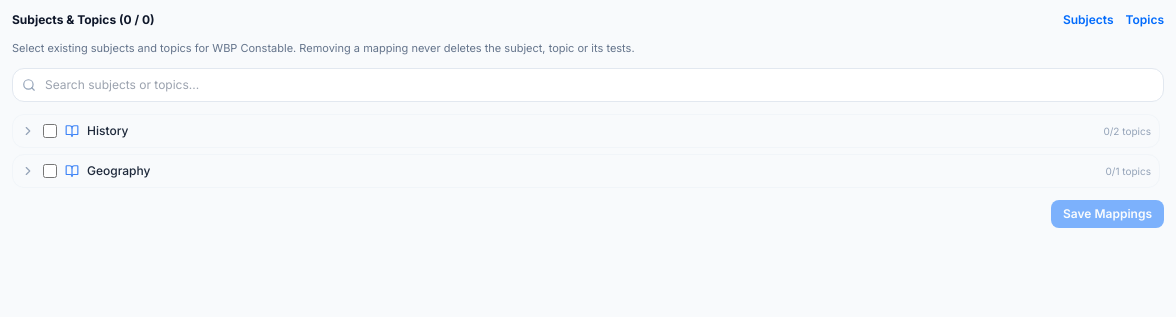
Test: ExamSubjectTopicMapper › unselecting a subject removes its topics
Expected: the text "History" is shown, top-left (87, 123), bottom-right (128, 139)
Click the checkbox labelled "History" at (50, 131), box top-left (43, 124), bottom-right (57, 138)
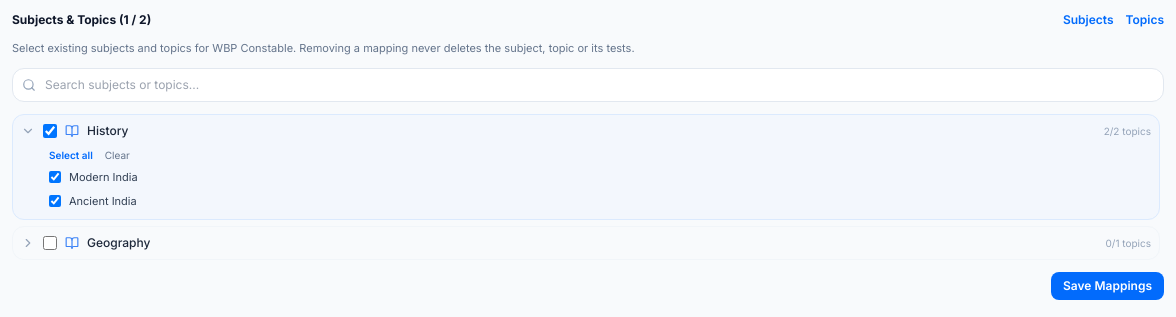
Click the checkbox labelled "History" at (50, 131), box top-left (43, 124), bottom-right (57, 138)
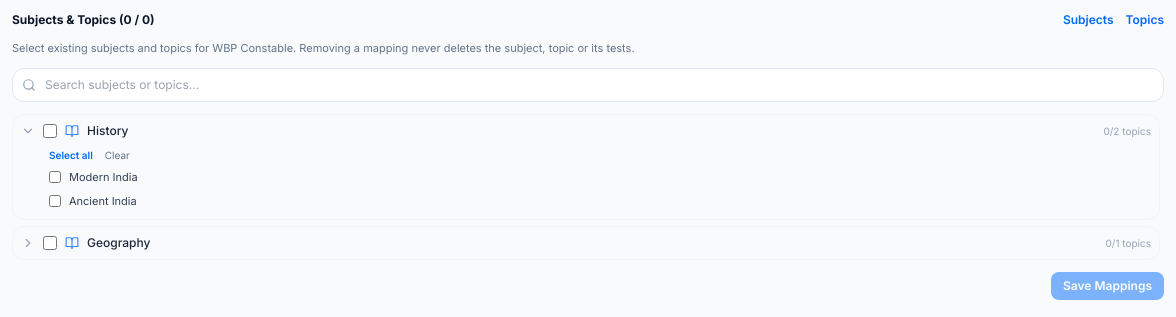
Expected: the text "Subjects & Topics (0 / 0)" is shown, top-left (12, 12), bottom-right (155, 28)
